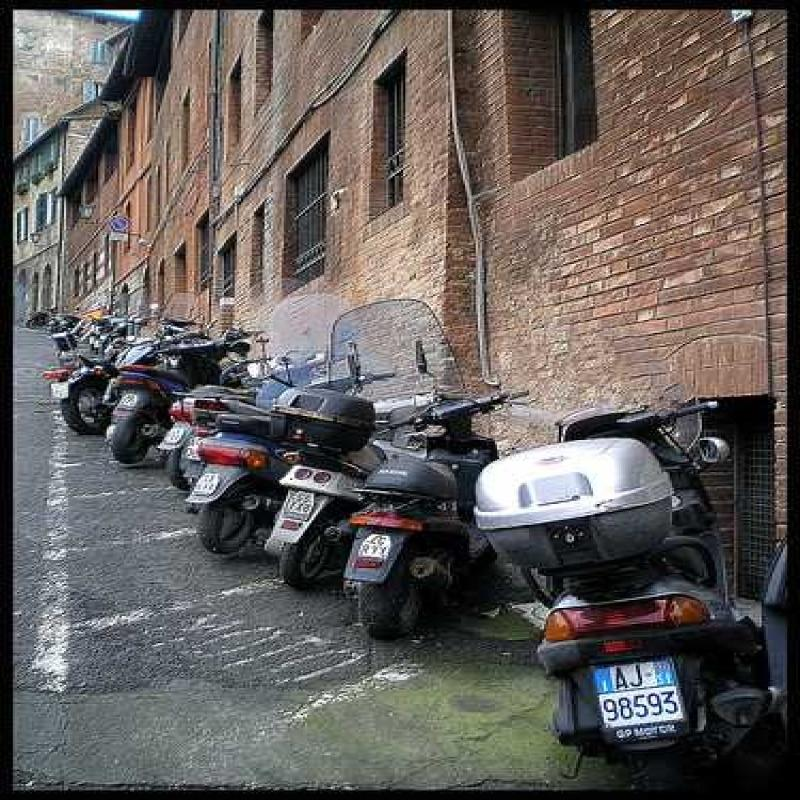bike: (543, 402, 768, 713), (348, 401, 512, 652)
